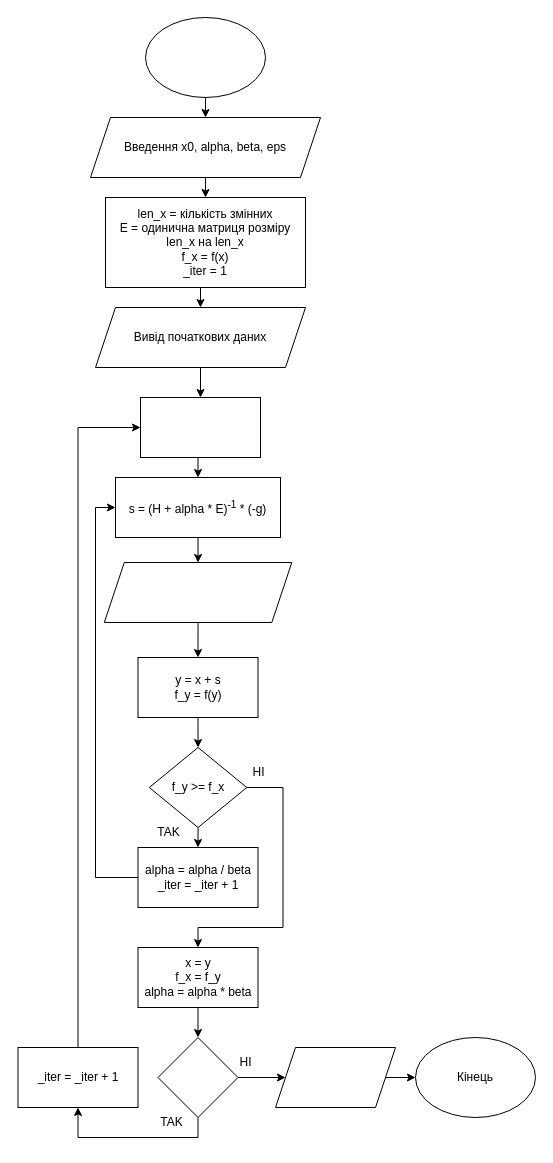
Some shapes in this 553 by 1163 pixel diagram are drawn without their labels. Each missing label, with the centre of its shape:
"g = ∇f(x) H = ∇ 2 f(x)" belongs at (x=200, y=427).
"|s| > eps" belongs at (x=197, y=1077).
"вивід x" belongs at (x=335, y=1077).
"Вивід проміжних даних" belongs at (x=197, y=592).
"Початок" belongs at (x=205, y=57).
